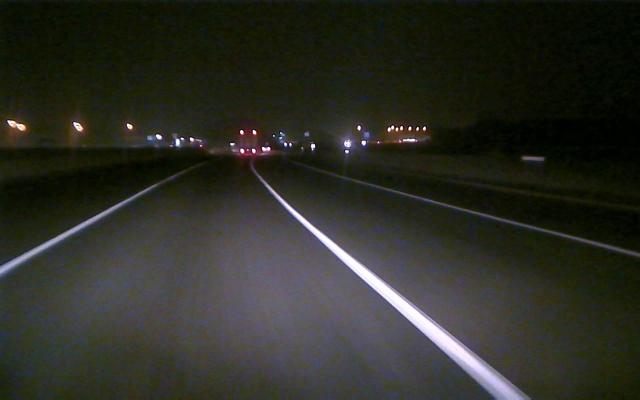lane: (261, 181, 530, 399), (361, 180, 640, 258), (0, 176, 171, 279)
